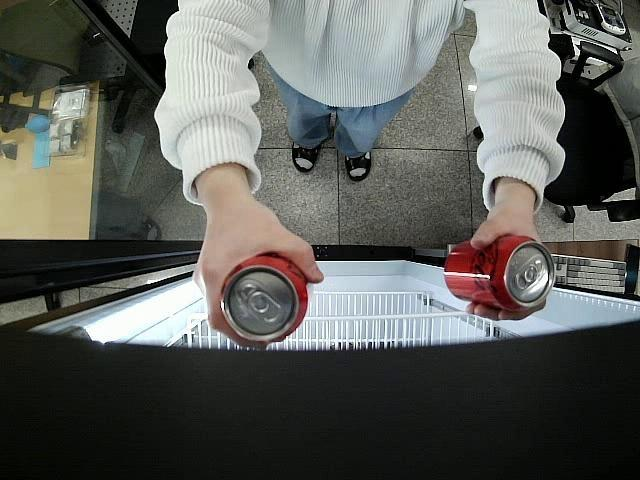11_cocaColaZero: (442, 235, 552, 316), (218, 252, 309, 342)
